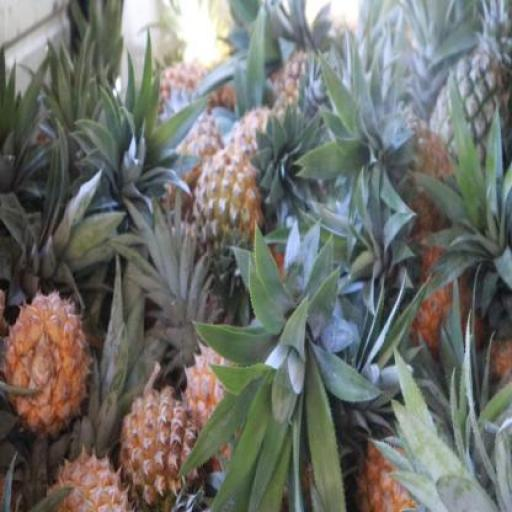------------------------------: (193, 155, 260, 288)
Pineapple - v8 v1: (6, 294, 84, 428), (121, 388, 198, 512)
